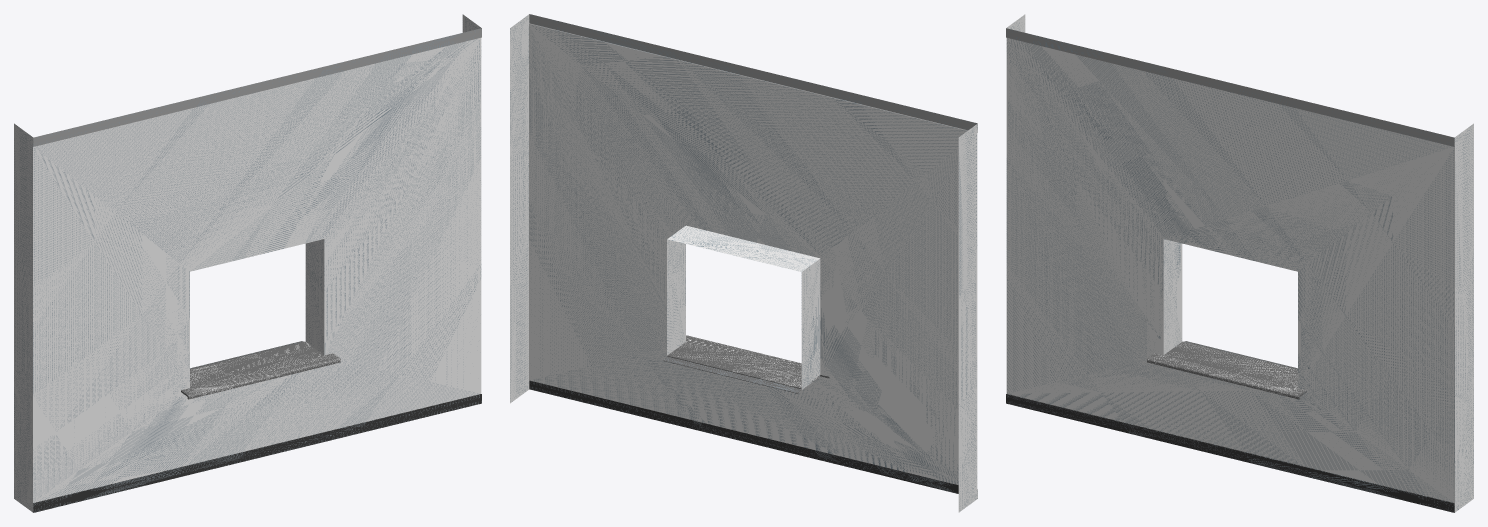
Rendered from WindowBlock_os_plinth_[500x400]_150x124x[090].dae.
3 views of the same model, side by side, from view 1: azimuth 30°, elevation 25°; view 2: azimuth 150°, elevation 25°; view 3: azimuth 330°, elevation 25° (orthographic).
Visible parts, largest first — view 1: group_2 (×4), group_1; view 2: group_2 (×4), group_1 (×2); view 3: group_2 (×4), group_1.
Boxes of the visible parts, x1,y1,x2,y2 form: group_2 (×4): [14, 14, 481, 512]; group_1: [181, 341, 340, 399]; group_2 (×4): [510, 14, 977, 512]; group_1 (×2): [663, 335, 829, 393]; group_2 (×4): [1006, 14, 1473, 512]; group_1: [1147, 341, 1306, 399].
Bounding box in the file's own units: 197 × 23.03 × 157.
